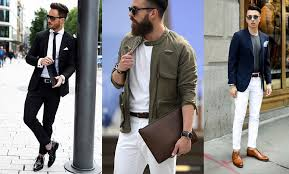F_M_suit jacket: (23, 28, 80, 86), (225, 27, 274, 93)
F_belt: (120, 107, 161, 122), (36, 76, 60, 86), (248, 72, 265, 80)
F_dress pants: (19, 85, 61, 159)
F_tie: (46, 30, 62, 76)
